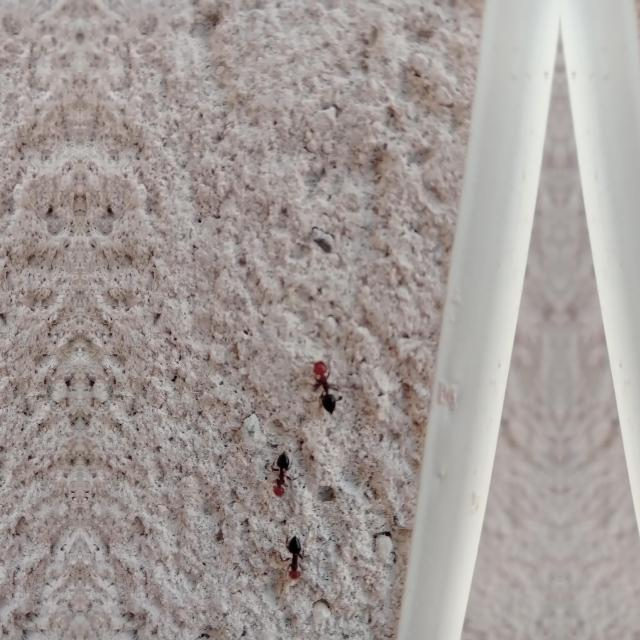Crematogaster: (305, 350, 347, 420), (258, 448, 298, 504), (276, 538, 308, 582)
